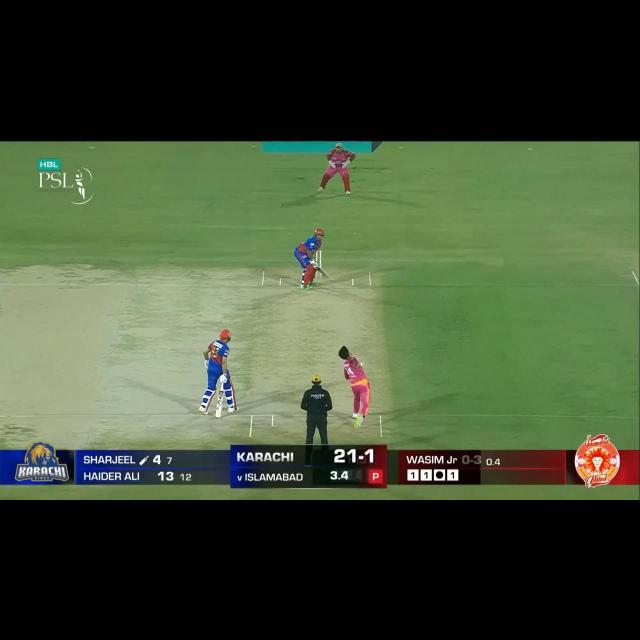bat: (214, 389, 225, 418), (315, 265, 331, 281)
toe: (214, 410, 223, 419), (324, 274, 330, 279)
